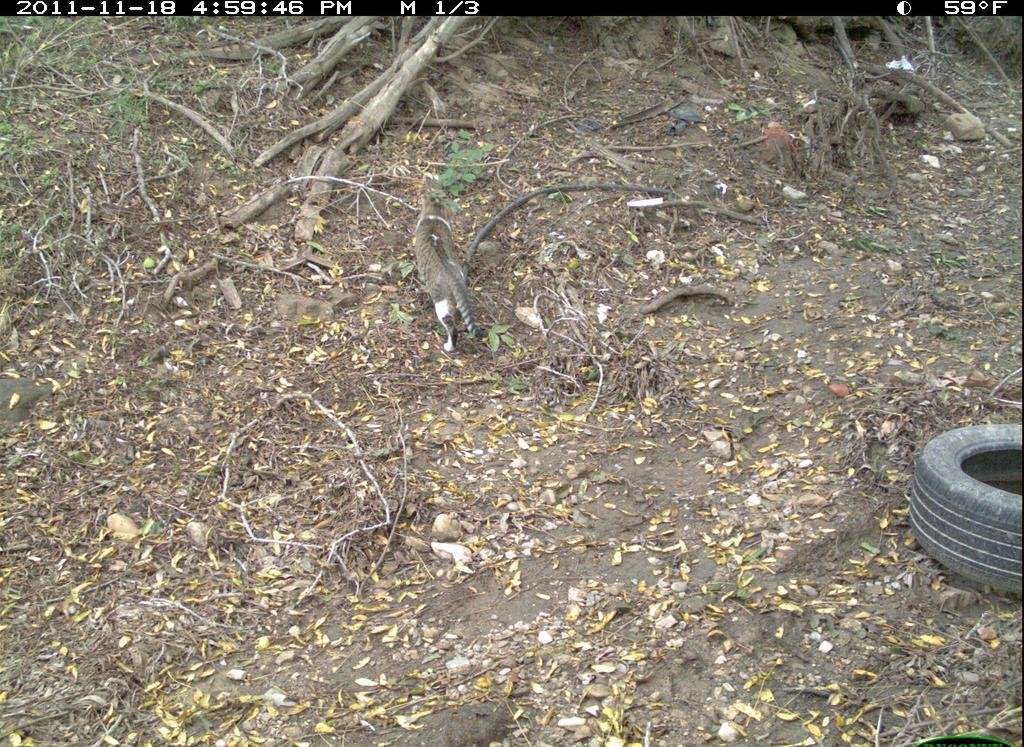cat: (396, 177, 488, 372)
